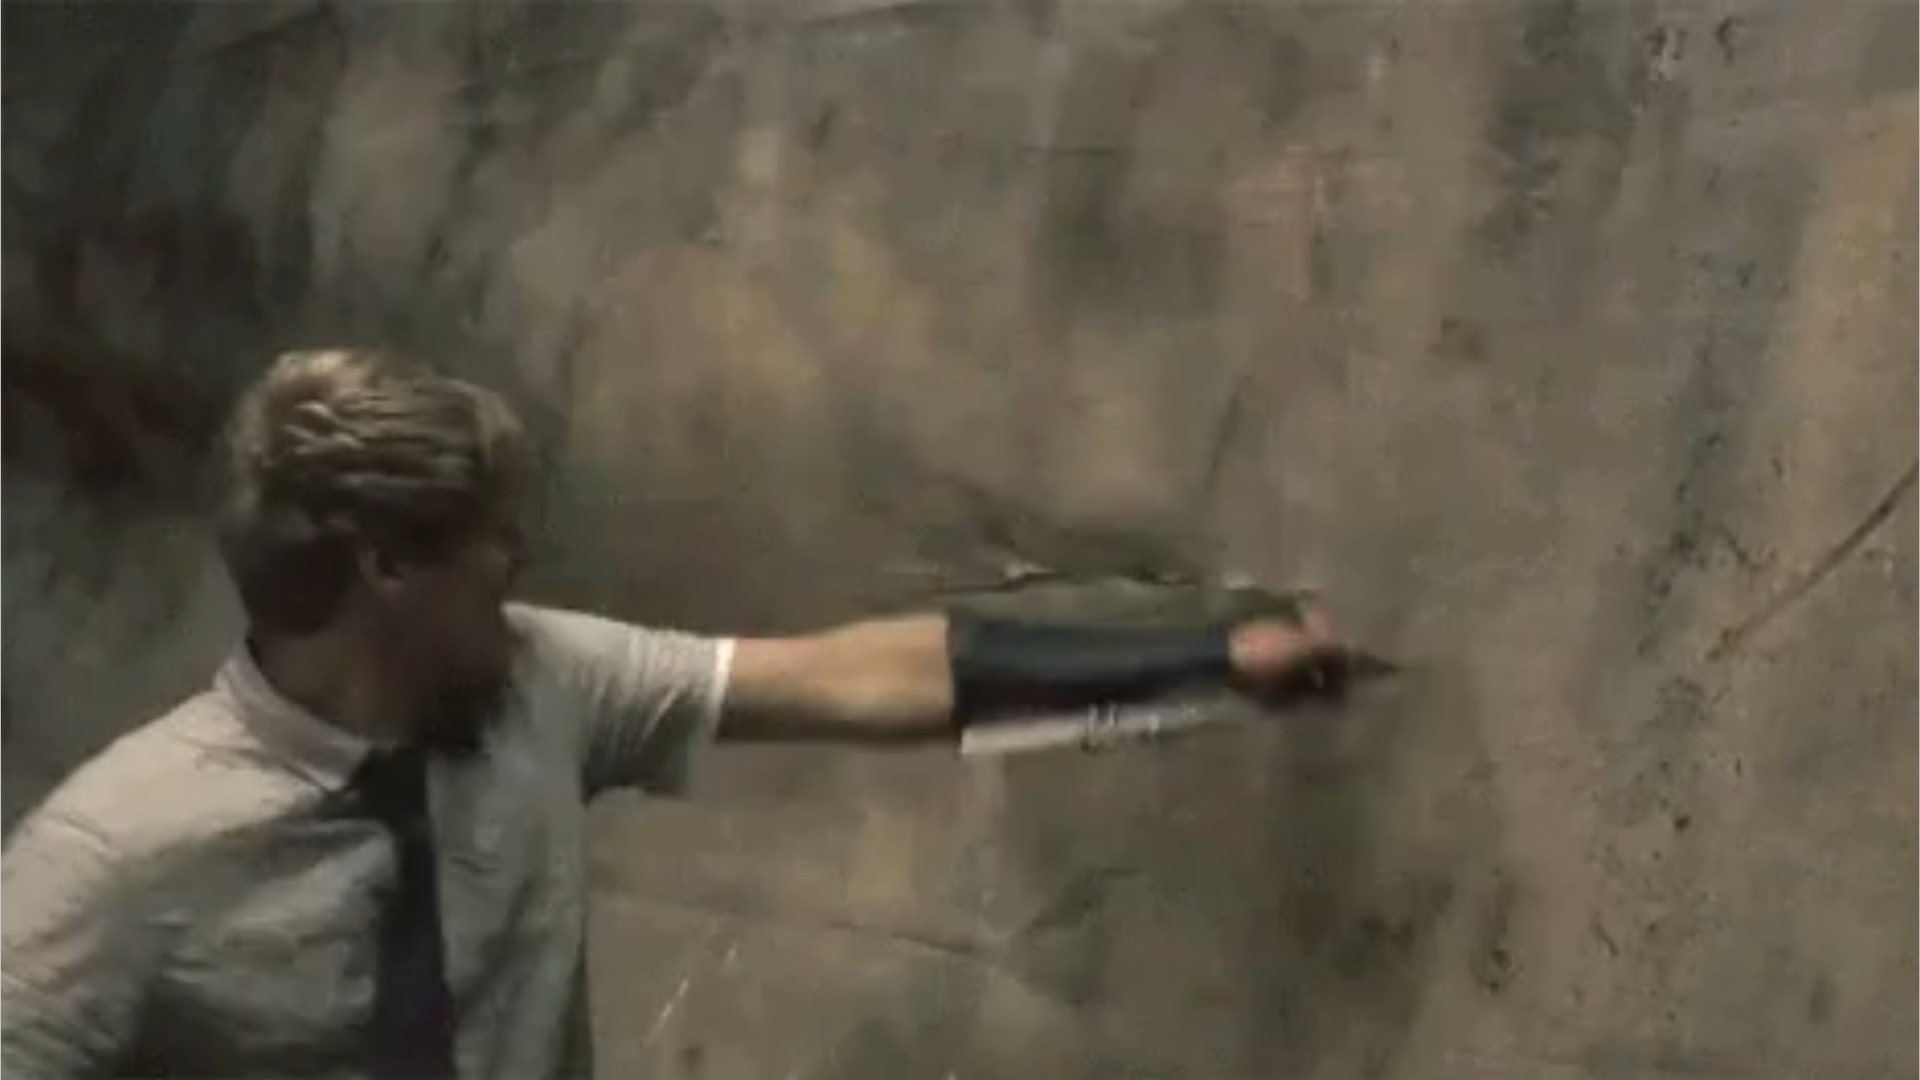cortante: (1344, 642, 1410, 690)
